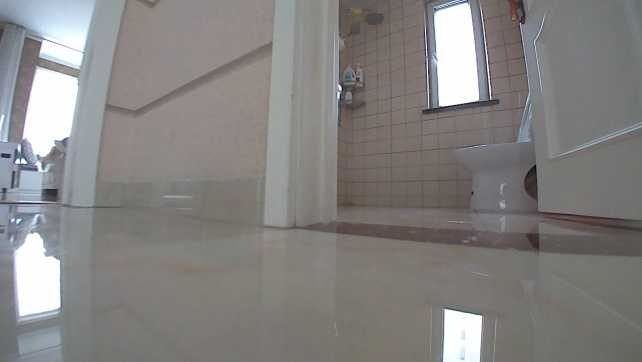door_anno: (510, 0, 641, 220)
toilet: (454, 91, 538, 214)
